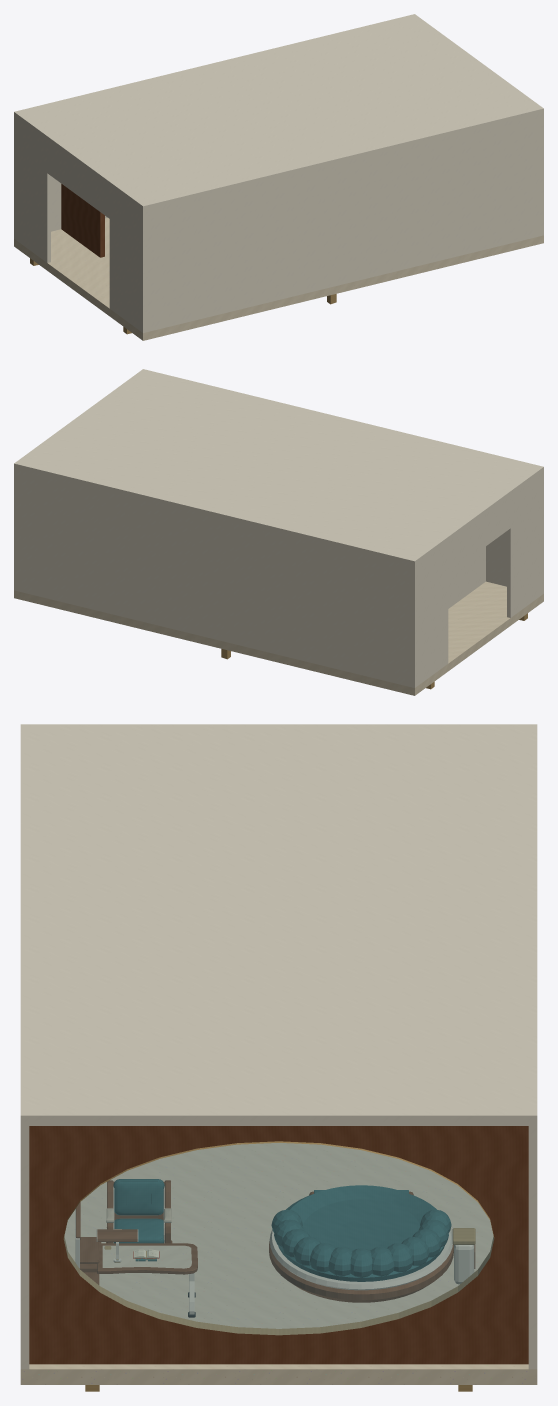
The model's file is StarAtlasSpecialty_443.glb.
3 views of the same model, one above another, from view 1: azimuth 30°, elevation 25°; view 2: azimuth 150°, elevation 25°; view 3: azimuth 270°, elevation 25° (orthographic). The views are drawn at different scales.
Parts seen in each view (by area): view 1: SA443_Ceiling, SA443_SouthSide, SA443_RoomFloor, SA443_EntryShoulderNorth, SA443_EntryShoulderSouth, SA443_EntryHeader, SA443_EntryPrivacyDogleg, SA443_NorthSide; view 2: SA443_Ceiling, SA443_NorthSide, SA443_RoomFloor, SA443_EntryShoulderSouth, SA443_EntryShoulderNorth, SA443_EntryHeader, SA443_WashEntrySide, SA443_SouthSide; view 3: SA443_Ceiling, SA443_OvalAtriumGlass, SA443_OvalWindowReveal, SA443_RoomFloor, SA443_ReservedRestSupport__NestContouredSupport, SA443_ReservedRestSupport, SA443_OvalDepthReturn, SA443_NorthSide, SA443_SouthSide, SA443_ReservedRestSupport__NestWeightedPlinth, SA443_ReservedRestSupport__NestEnamelRim, SA443_DayReadingChair__DAY_CHAIR_single_reclined_back_cushio (+3 smaller).
Part boxes in pixels (x1,y1,x2,y2): SA443_Ceiling: (14,14,543,211); SA443_SouthSide: (141,114,543,332); SA443_RoomFloor: (14,218,543,340); SA443_EntryShoulderNorth: (16,119,50,262); SA443_EntryShoulderSouth: (109,187,140,331); SA443_EntryHeader: (47,141,110,218); SA443_EntryPrivacyDogleg: (61,184,104,257); SA443_NorthSide: (14,117,107,239); SA443_Ceiling: (14,369,543,566); SA443_NorthSide: (14,469,416,687); SA443_RoomFloor: (14,581,543,695); SA443_EntryShoulderSouth: (507,474,541,617); SA443_EntryShoulderNorth: (417,543,448,686); SA443_EntryHeader: (447,496,511,574); SA443_WashEntrySide: (448,546,485,608); SA443_SouthSide: (486,472,543,594); SA443_Ceiling: (20,724,537,1125); SA443_OvalAtriumGlass: (64,1143,493,1334); SA443_OvalWindowReveal: (29,1126,528,1364); SA443_RoomFloor: (20,1143,537,1384); SA443_ReservedRestSupport__NestContouredSupport: (278,1185,444,1281); SA443_ReservedRestSupport: (271,1209,451,1277); SA443_OvalDepthReturn: (63,1141,494,1335); SA443_NorthSide: (528,1126,537,1369); SA443_SouthSide: (20,1126,29,1369); SA443_ReservedRestSupport__NestWeightedPlinth: (269,1241,453,1302); SA443_ReservedRestSupport__NestEnamelRim: (269,1230,452,1290); SA443_DayReadingChair__DAY_CHAIR_single_reclined_back_cushio: (113,1179,164,1214).
Size of the model in its own units: 12.9 by 4.91 by 7.2.
Materials: 52 (46 with a texture image).
